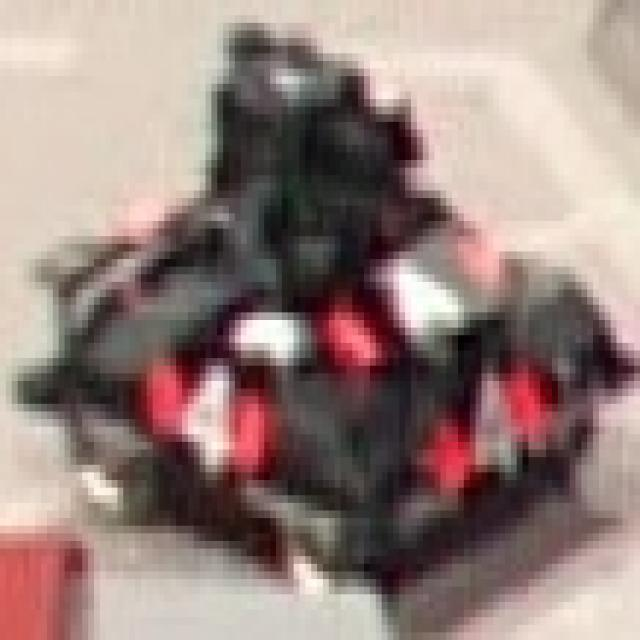R4: (317, 229, 505, 358), (135, 336, 270, 472), (429, 358, 546, 488)
